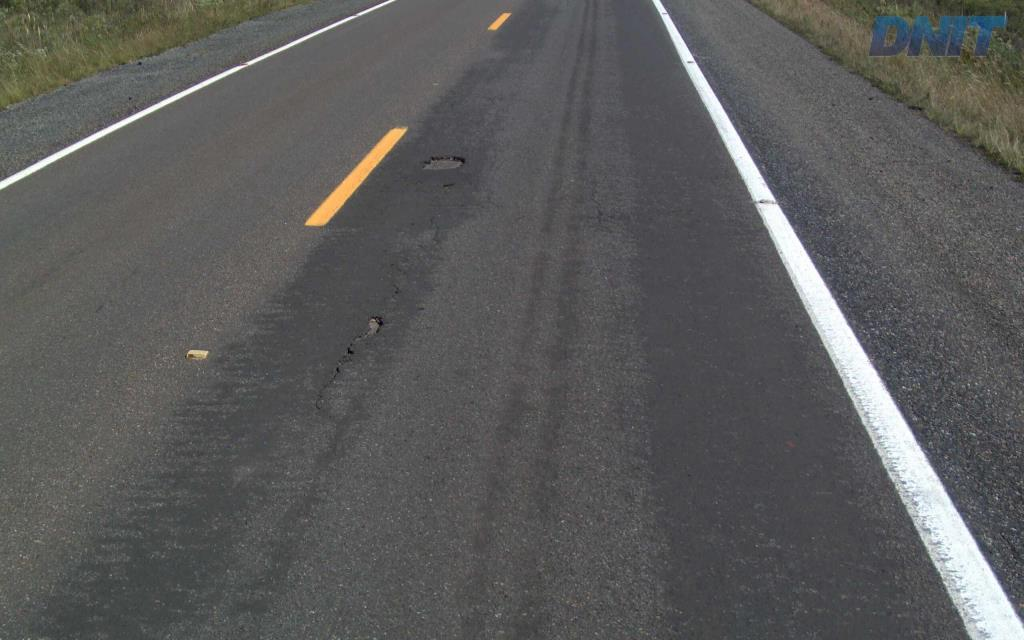pothole: (414, 150, 468, 174), (349, 311, 383, 347)
